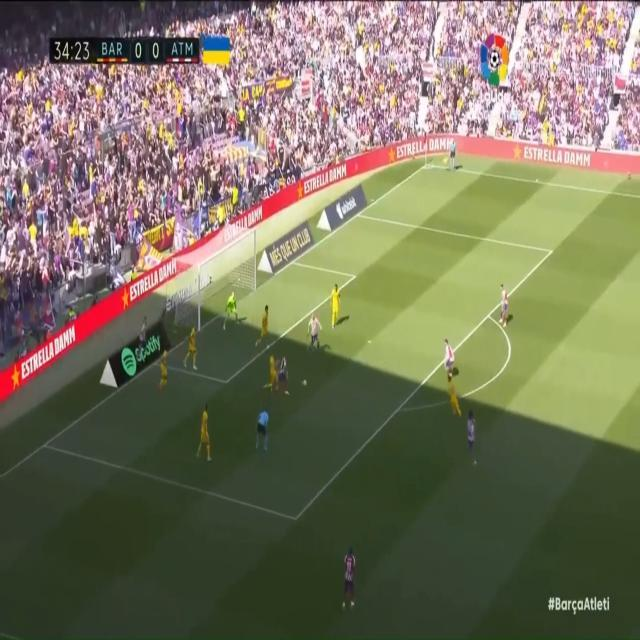ball: (302, 376, 308, 391)
goalkeeper: (218, 285, 244, 335)
player: (330, 539, 355, 628), (195, 397, 213, 472), (466, 403, 483, 481), (444, 369, 466, 424), (260, 346, 279, 406), (181, 318, 199, 380), (303, 310, 324, 363), (497, 273, 514, 337), (326, 279, 344, 336), (255, 299, 272, 359), (277, 344, 293, 404), (157, 339, 173, 395), (440, 330, 456, 382), (135, 303, 148, 363)
referee: (254, 399, 275, 466), (442, 129, 459, 173)
